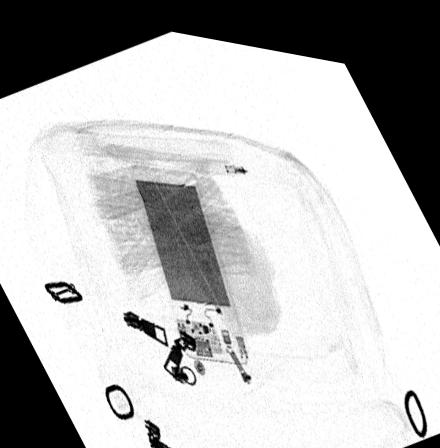Powerbank: (131, 163, 249, 353)
